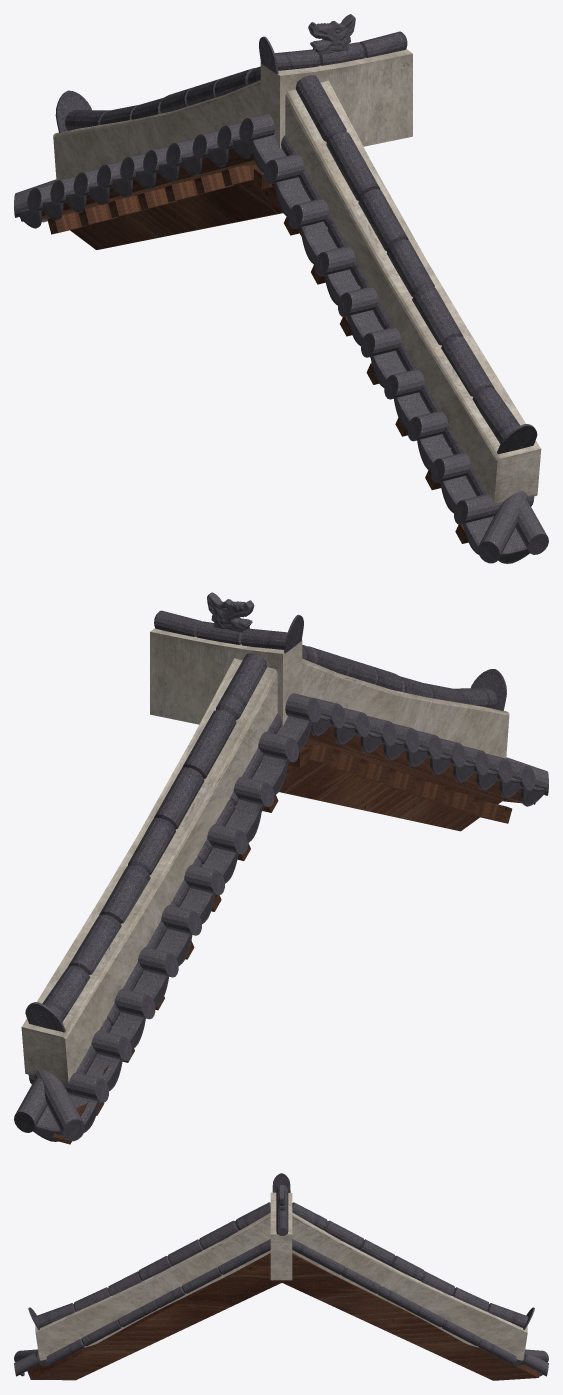
File: SM_R_RoofOuter_22.fbx
The picture shows the model from 3 angles, top to bottom: view 1: azimuth 30°, elevation 25°; view 2: azimuth 150°, elevation 25°; view 3: azimuth 270°, elevation 25°; orthographic projection. The views are drawn at different scales.
Visible parts, largest first — view 1: SM_R_RoofOuter_22; view 2: SM_R_RoofOuter_22; view 3: SM_R_RoofOuter_22.
Boxes of the visible parts, x1,y1,x2,y2 form: SM_R_RoofOuter_22: (14,14,548,563); SM_R_RoofOuter_22: (14,592,548,1144); SM_R_RoofOuter_22: (14,1173,548,1380).
Size of the model in its own units: 158 by 824 by 339.
4 materials, 4 textured.
